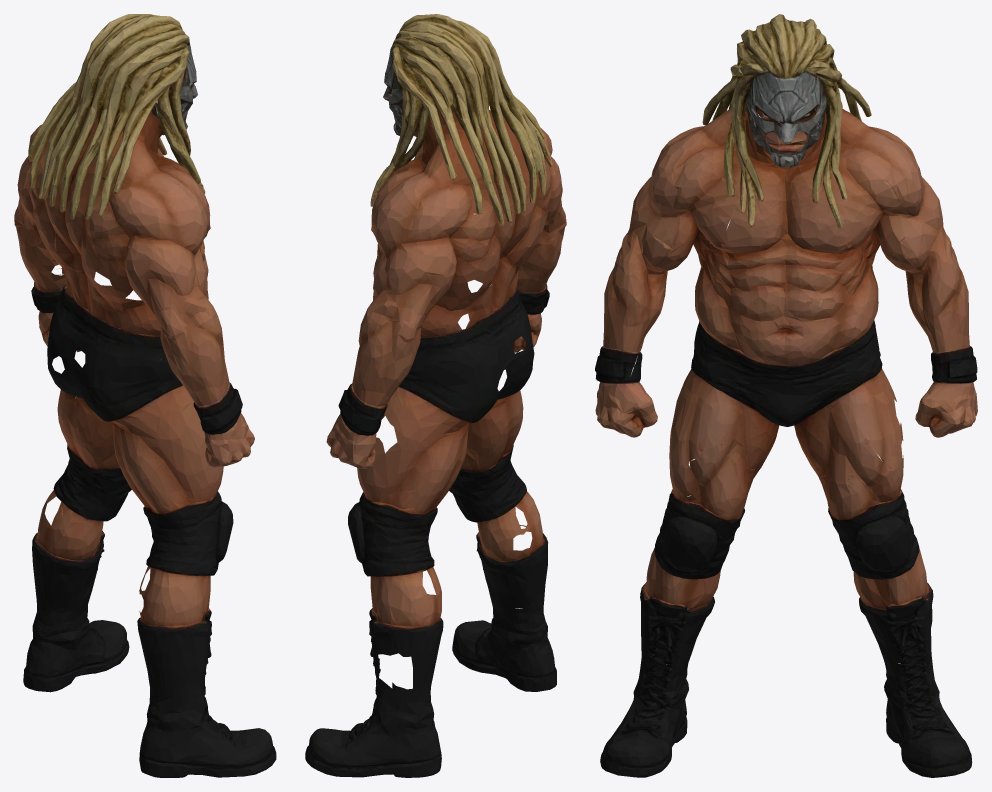
Rendered from BANNON.glb.
The picture shows the model from 3 angles, left to right: view 1: azimuth 30°, elevation 25°; view 2: azimuth 150°, elevation 25°; view 3: azimuth 270°, elevation 25°; orthographic projection. The views are drawn at different scales.
Visible parts, largest first — view 1: hipL, shL, knL, chest, knR, head, ftL, pelvis, ftR, elL, hipR, shR; view 2: hipR, shR, chest, knR, knL, head, ftR, pelvis, ftL, hipL, elR, shL (+1 smaller); view 3: chest, elL, elR, shR, shL, knL, knR, hipL, pelvis, head, hipR, ftR (+3 smaller).
Boxes of the visible parts, x1,y1,x2,y2 form: hipL: [89, 290, 254, 496]; shL: [98, 90, 210, 311]; knL: [126, 478, 233, 694]; chest: [29, 83, 205, 297]; knR: [32, 433, 131, 610]; head: [70, 14, 196, 123]; ftL: [139, 678, 276, 777]; pelvis: [47, 261, 116, 448]; ftR: [23, 591, 129, 692]; elL: [144, 241, 242, 412]; hipR: [14, 208, 89, 447]; shR: [15, 82, 76, 221]; hipR: [330, 291, 492, 496]; shR: [367, 92, 482, 326]; chest: [371, 86, 552, 298]; knR: [348, 479, 455, 693]; knL: [449, 432, 548, 611]; head: [384, 14, 513, 124]; ftR: [305, 679, 441, 777]; pelvis: [464, 263, 533, 450]; ftL: [452, 595, 556, 691]; hipL: [489, 237, 562, 448]; elR: [326, 257, 399, 448]; shL: [514, 96, 562, 221]; chest: [722, 101, 862, 302]; elL: [598, 232, 787, 382]; elR: [798, 250, 977, 433]; shR: [810, 78, 957, 268]; shL: [627, 76, 762, 248]; knL: [640, 473, 756, 666]; knR: [816, 473, 933, 666]; hipL: [595, 321, 752, 478]; pelvis: [735, 298, 834, 478]; head: [730, 14, 841, 125]; hipR: [821, 246, 977, 482]; ftR: [882, 654, 972, 777].
Bounding box in the file's own units: 0.414 × 1.88 × 0.8874.
Materials: 1 (1 with a texture image).
